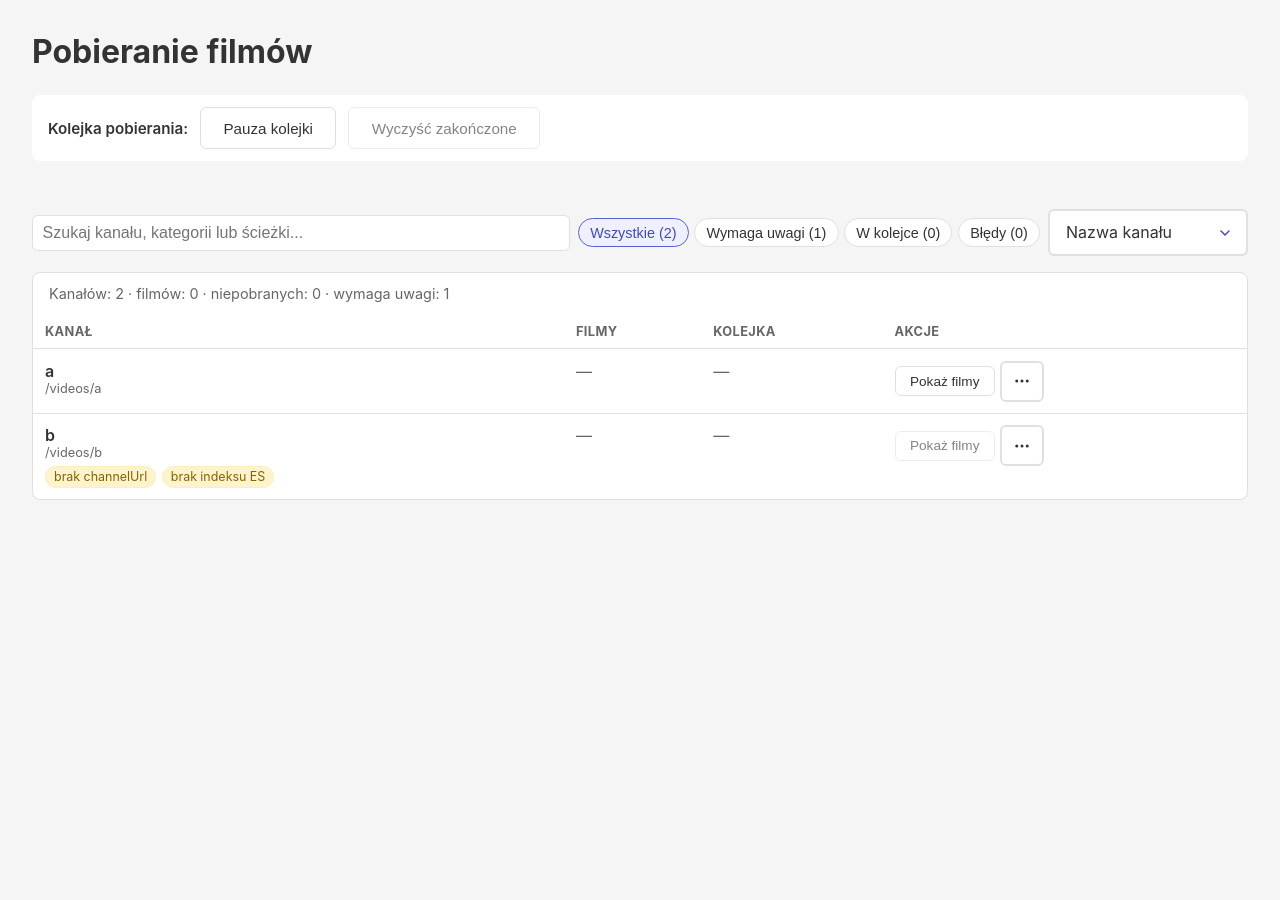
Test case: StatusPage › re-reads the queue after a download is queued from the expanded section
The image size is (1280, 900).
Click the button "Pokaż filmy" in the row of "/videos/a": click(945, 381) [895,366,995,396]
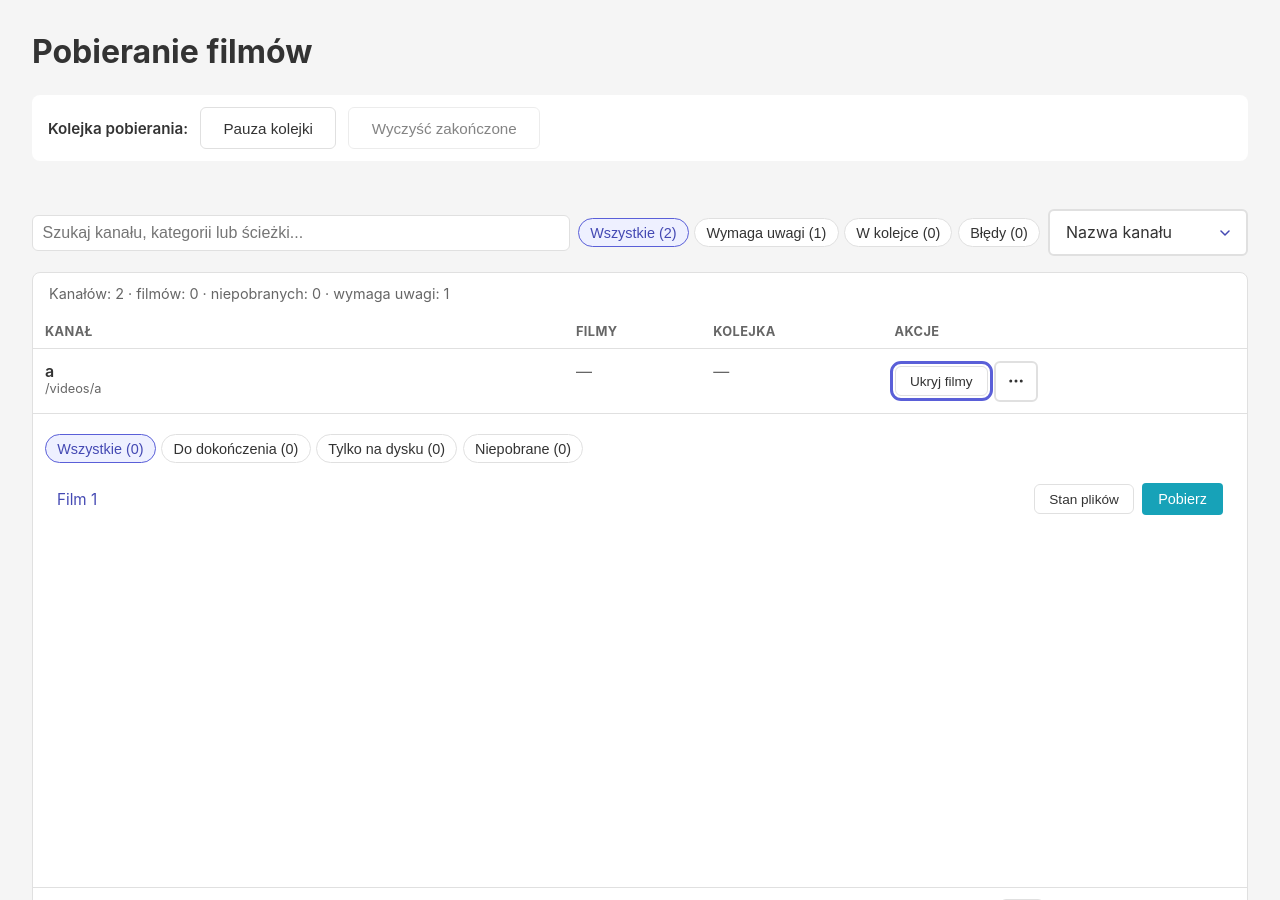
Expected: the link "Film 1" is shown, [57,490,97,509]
Click the button "Pobierz": click(1183, 499) [1142,483,1223,515]
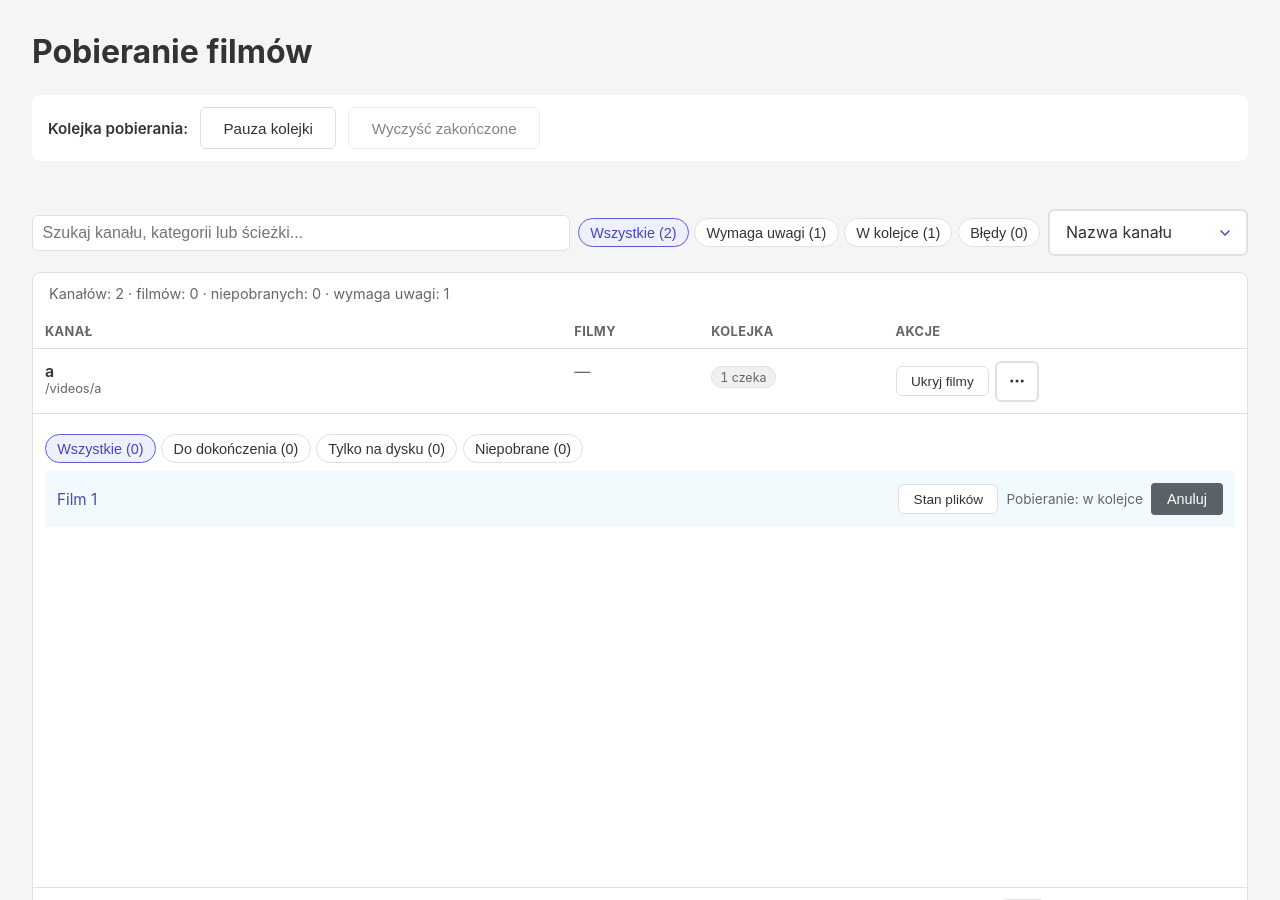
Expected: the text "1 czeka" is shown, [711,366,776,388]
